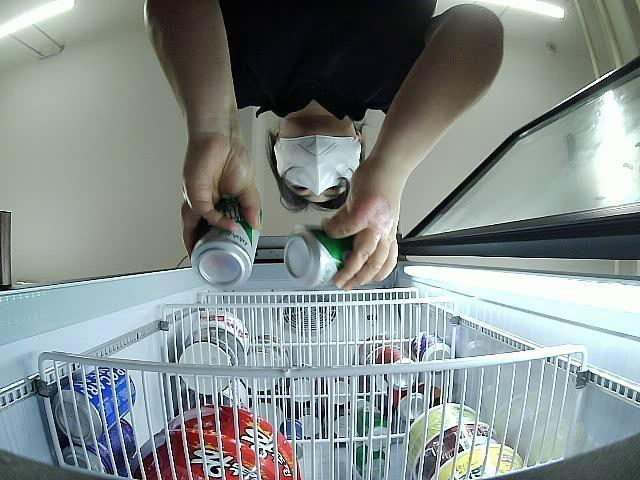12_chilsungCider: (191, 200, 260, 291), (285, 226, 354, 287)
